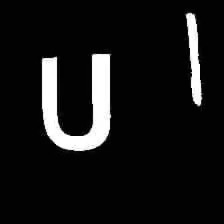LTR_U: (32, 45, 116, 153)
